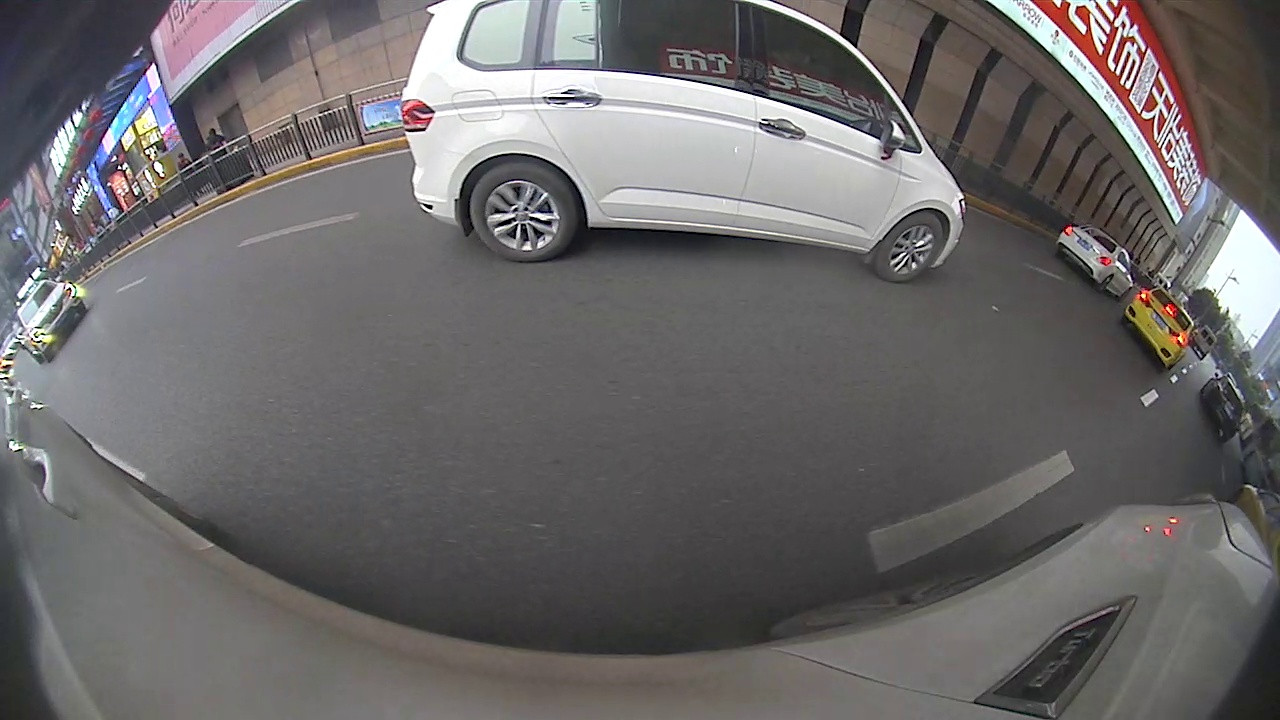car: (403, 1, 968, 283), (1121, 285, 1198, 368), (14, 278, 86, 363), (1055, 222, 1134, 298), (1197, 372, 1247, 444)
front: (878, 213, 947, 284)
rear: (466, 159, 575, 265), (1095, 275, 1113, 293)
